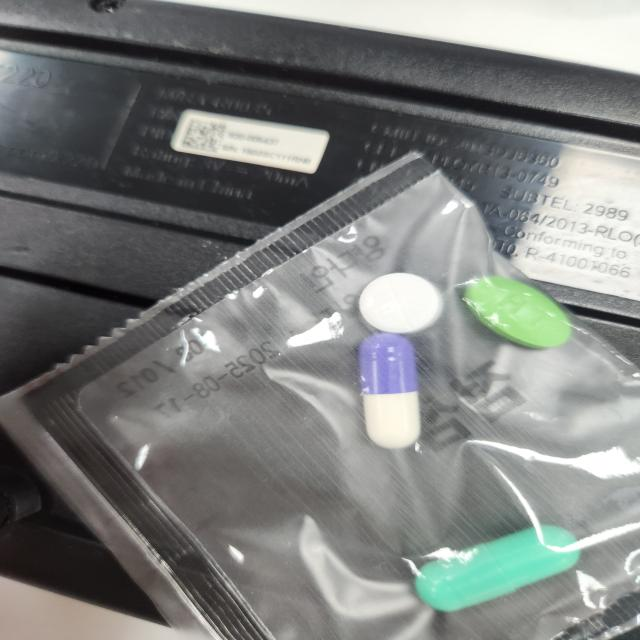러키펜정: (359, 274, 444, 336)
씨엠지세파클러캡슐: (356, 335, 422, 451)
에르도캡슐: (411, 525, 589, 613)
휴티렌정: (458, 276, 575, 351)
